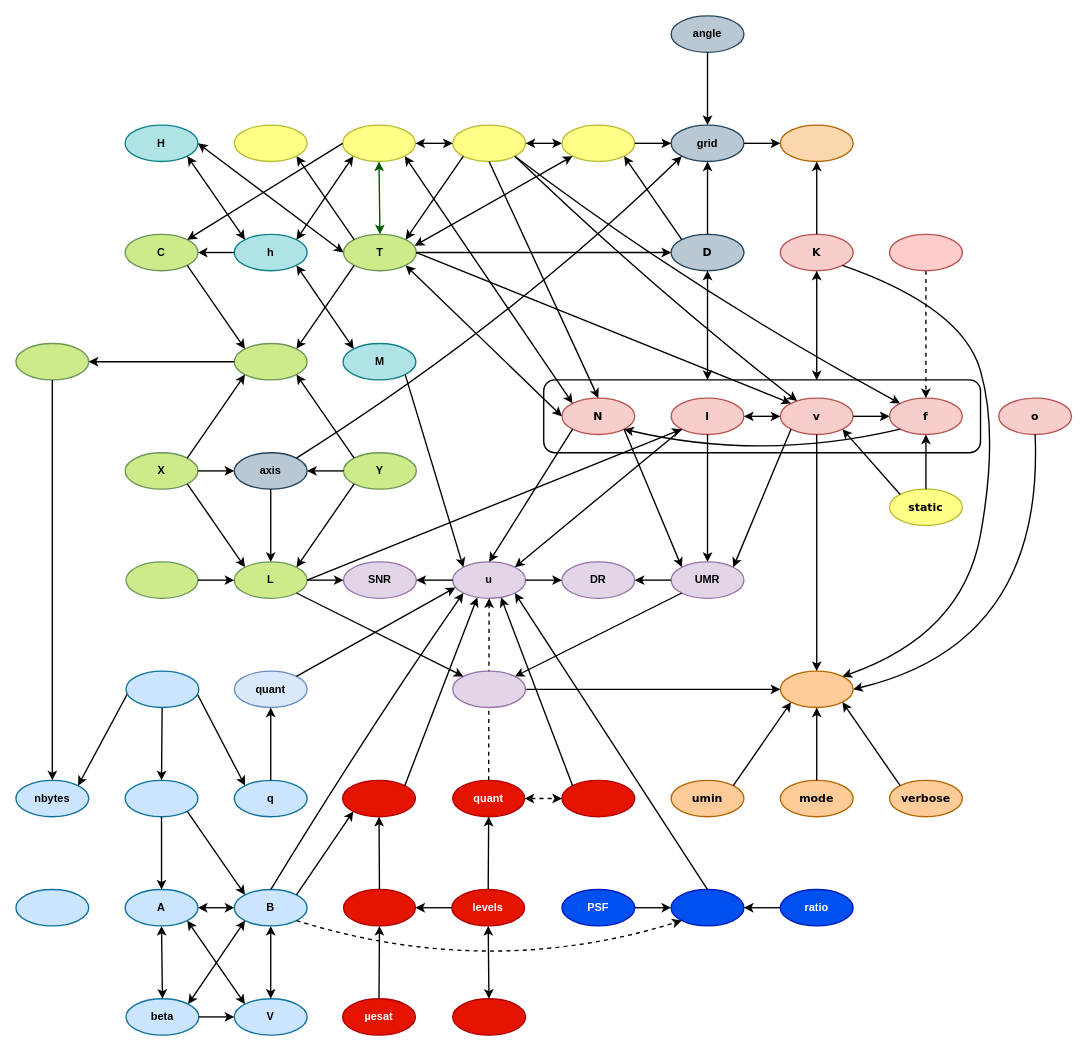
This 1088x1052 diagram has some shape labels left out. Each missing label, with the centre of its shape:
"alpha" belongs at (161,580).
"bits" belongs at (489,1016).
"dark" belongs at (598,798).
"dtype" belongs at (162,689).
"eta" belongs at (489,689).
"FDM" belongs at (489,143).
"gamma" belongs at (52,907).
"Imax" belongs at (161,798).
"MTF" belongs at (707,907).
"PU" belongs at (816,689).
"reverse" belongs at (925,252).
"SDM" belongs at (598,143).
"shape" belongs at (270,361).
"shot" belongs at (379,798).
"size" belongs at (52,361).
"SSB" belongs at (816,143).
"system gain" belongs at (379,907).
"TDM" belongs at (270,143).
"WDM" belongs at (379,143).
